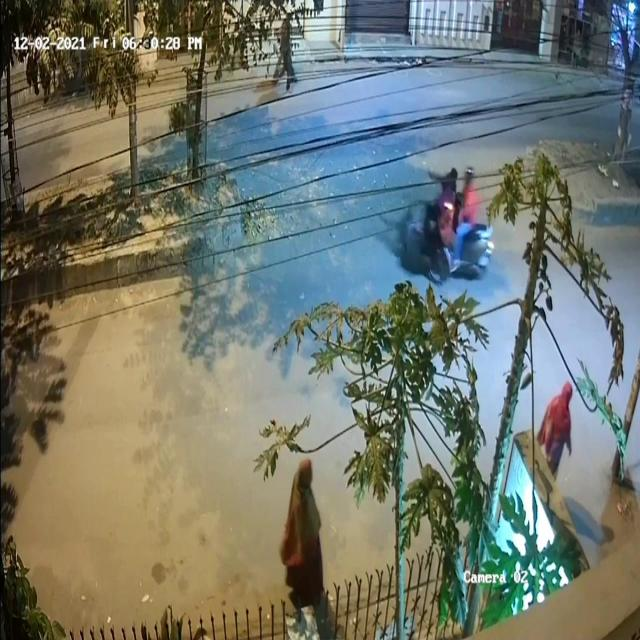accident: (401, 157, 501, 291)
